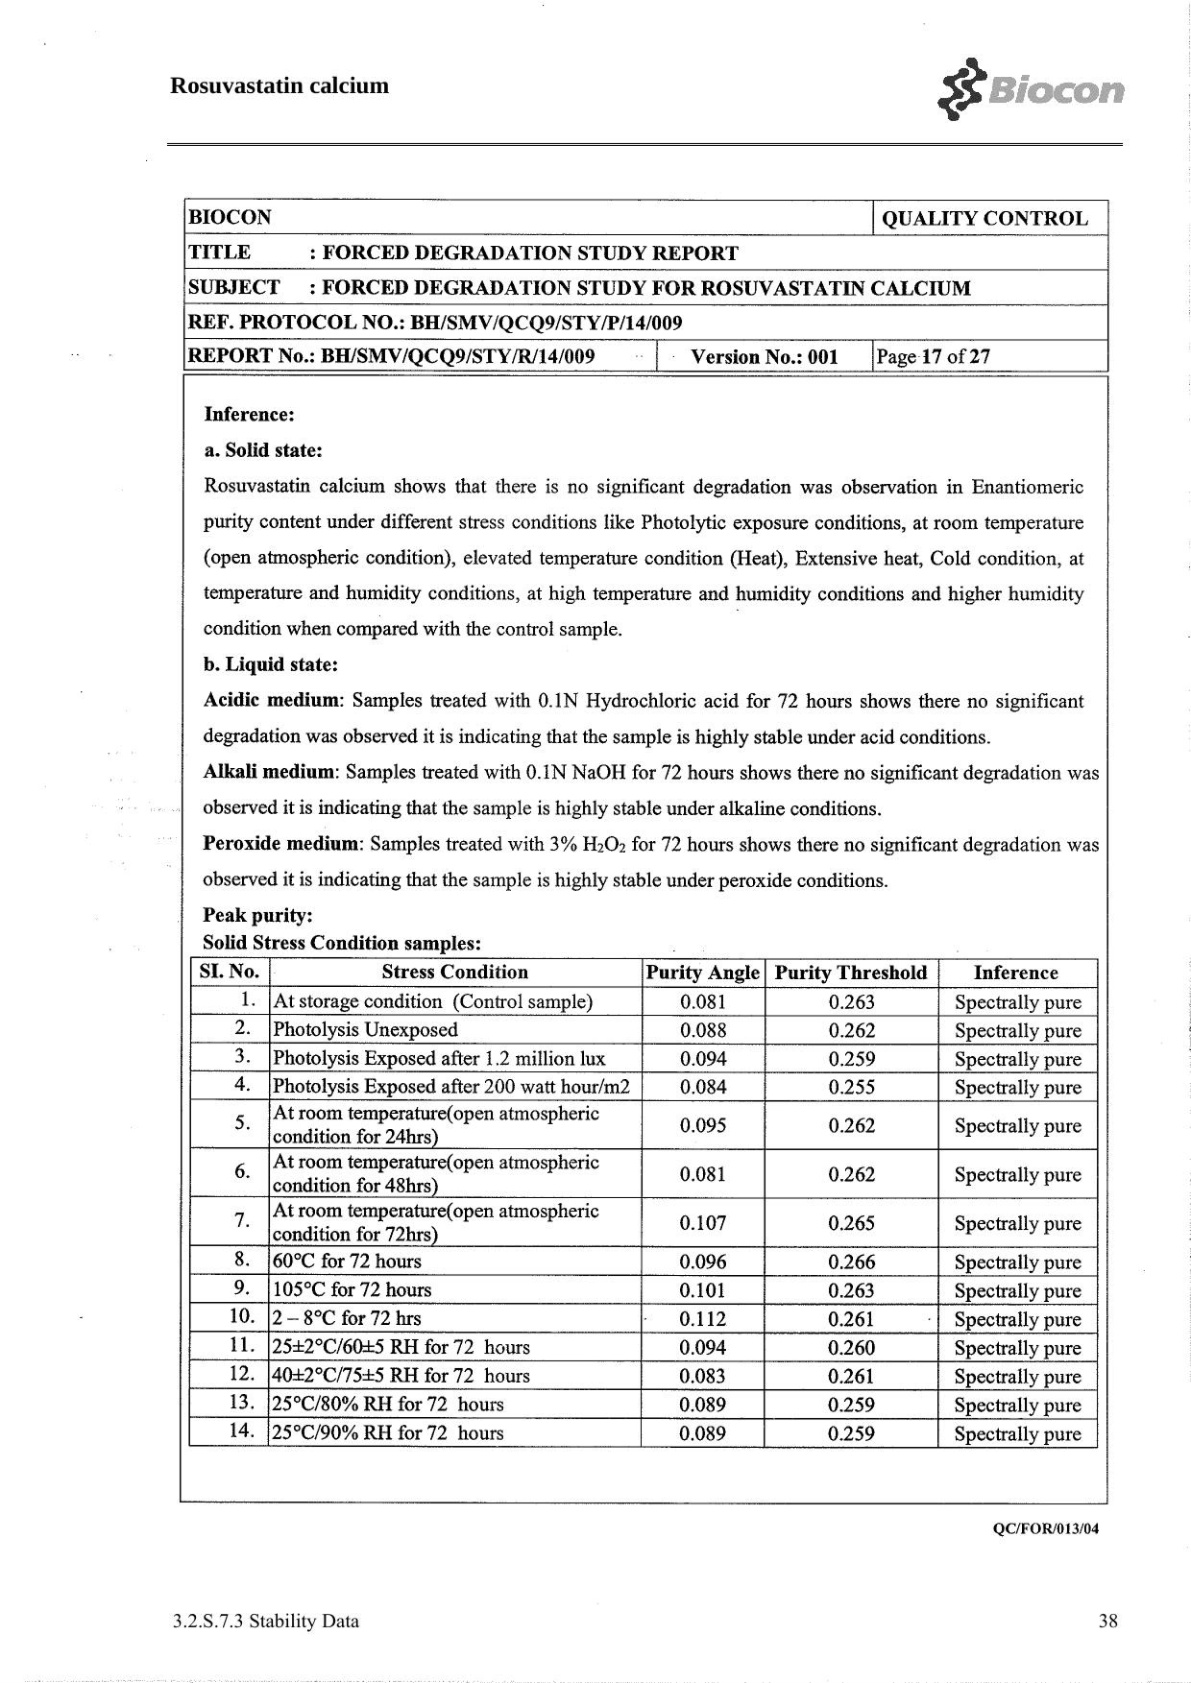full_lined: (189, 955, 1099, 1448)
merged_cells: (182, 198, 1111, 372)
